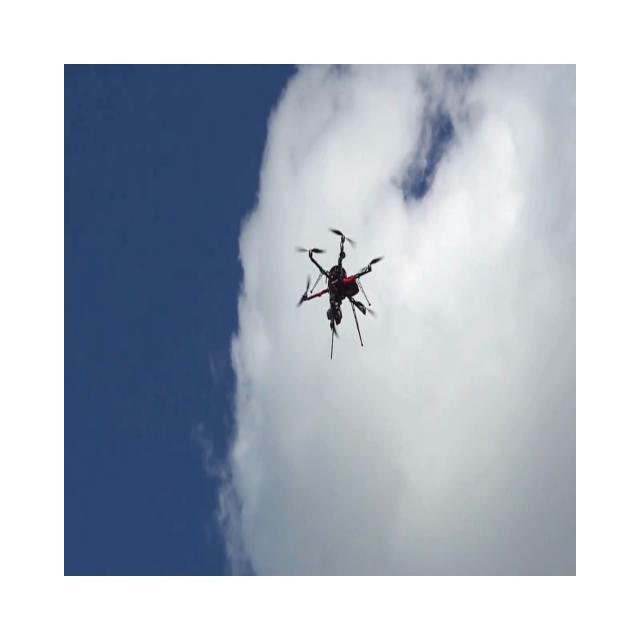drone: (294, 227, 384, 360)
